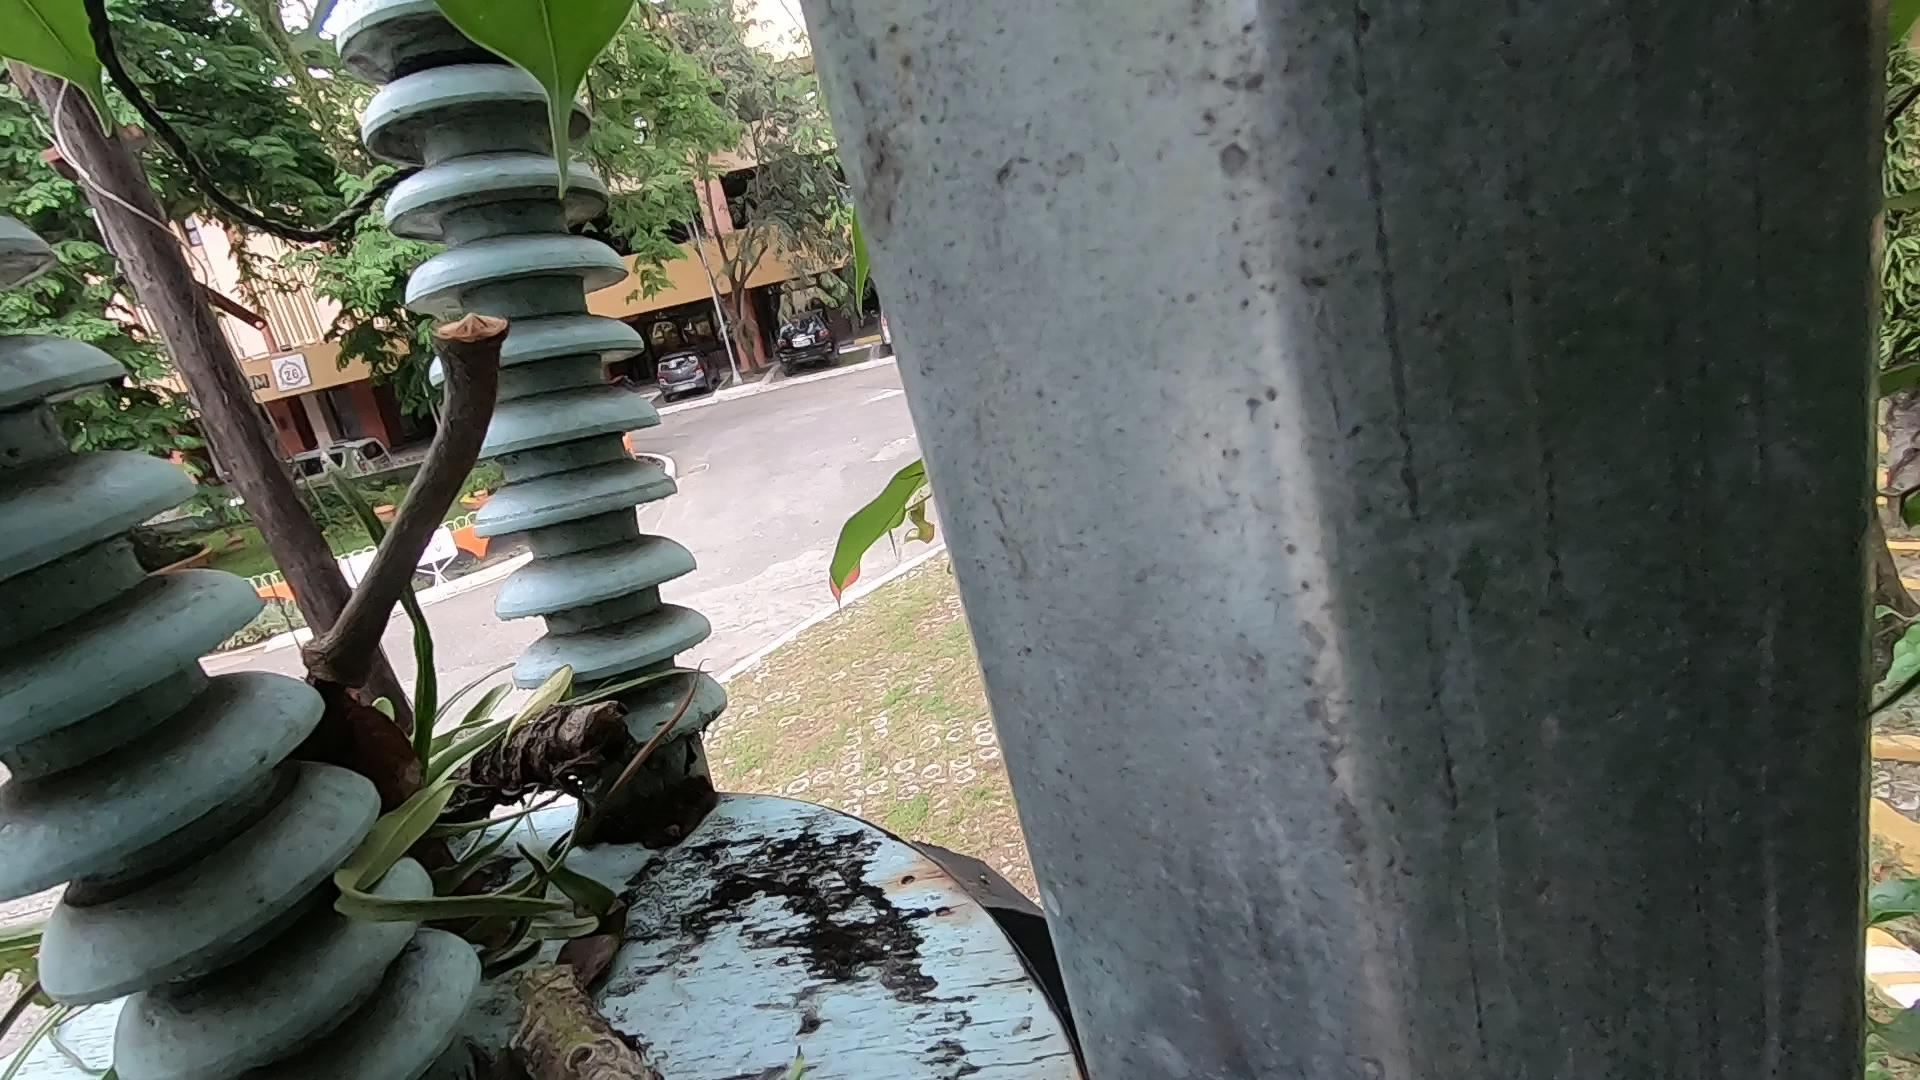branch with leaves: (385, 649, 732, 1080)
tree branch: (313, 257, 556, 742)
